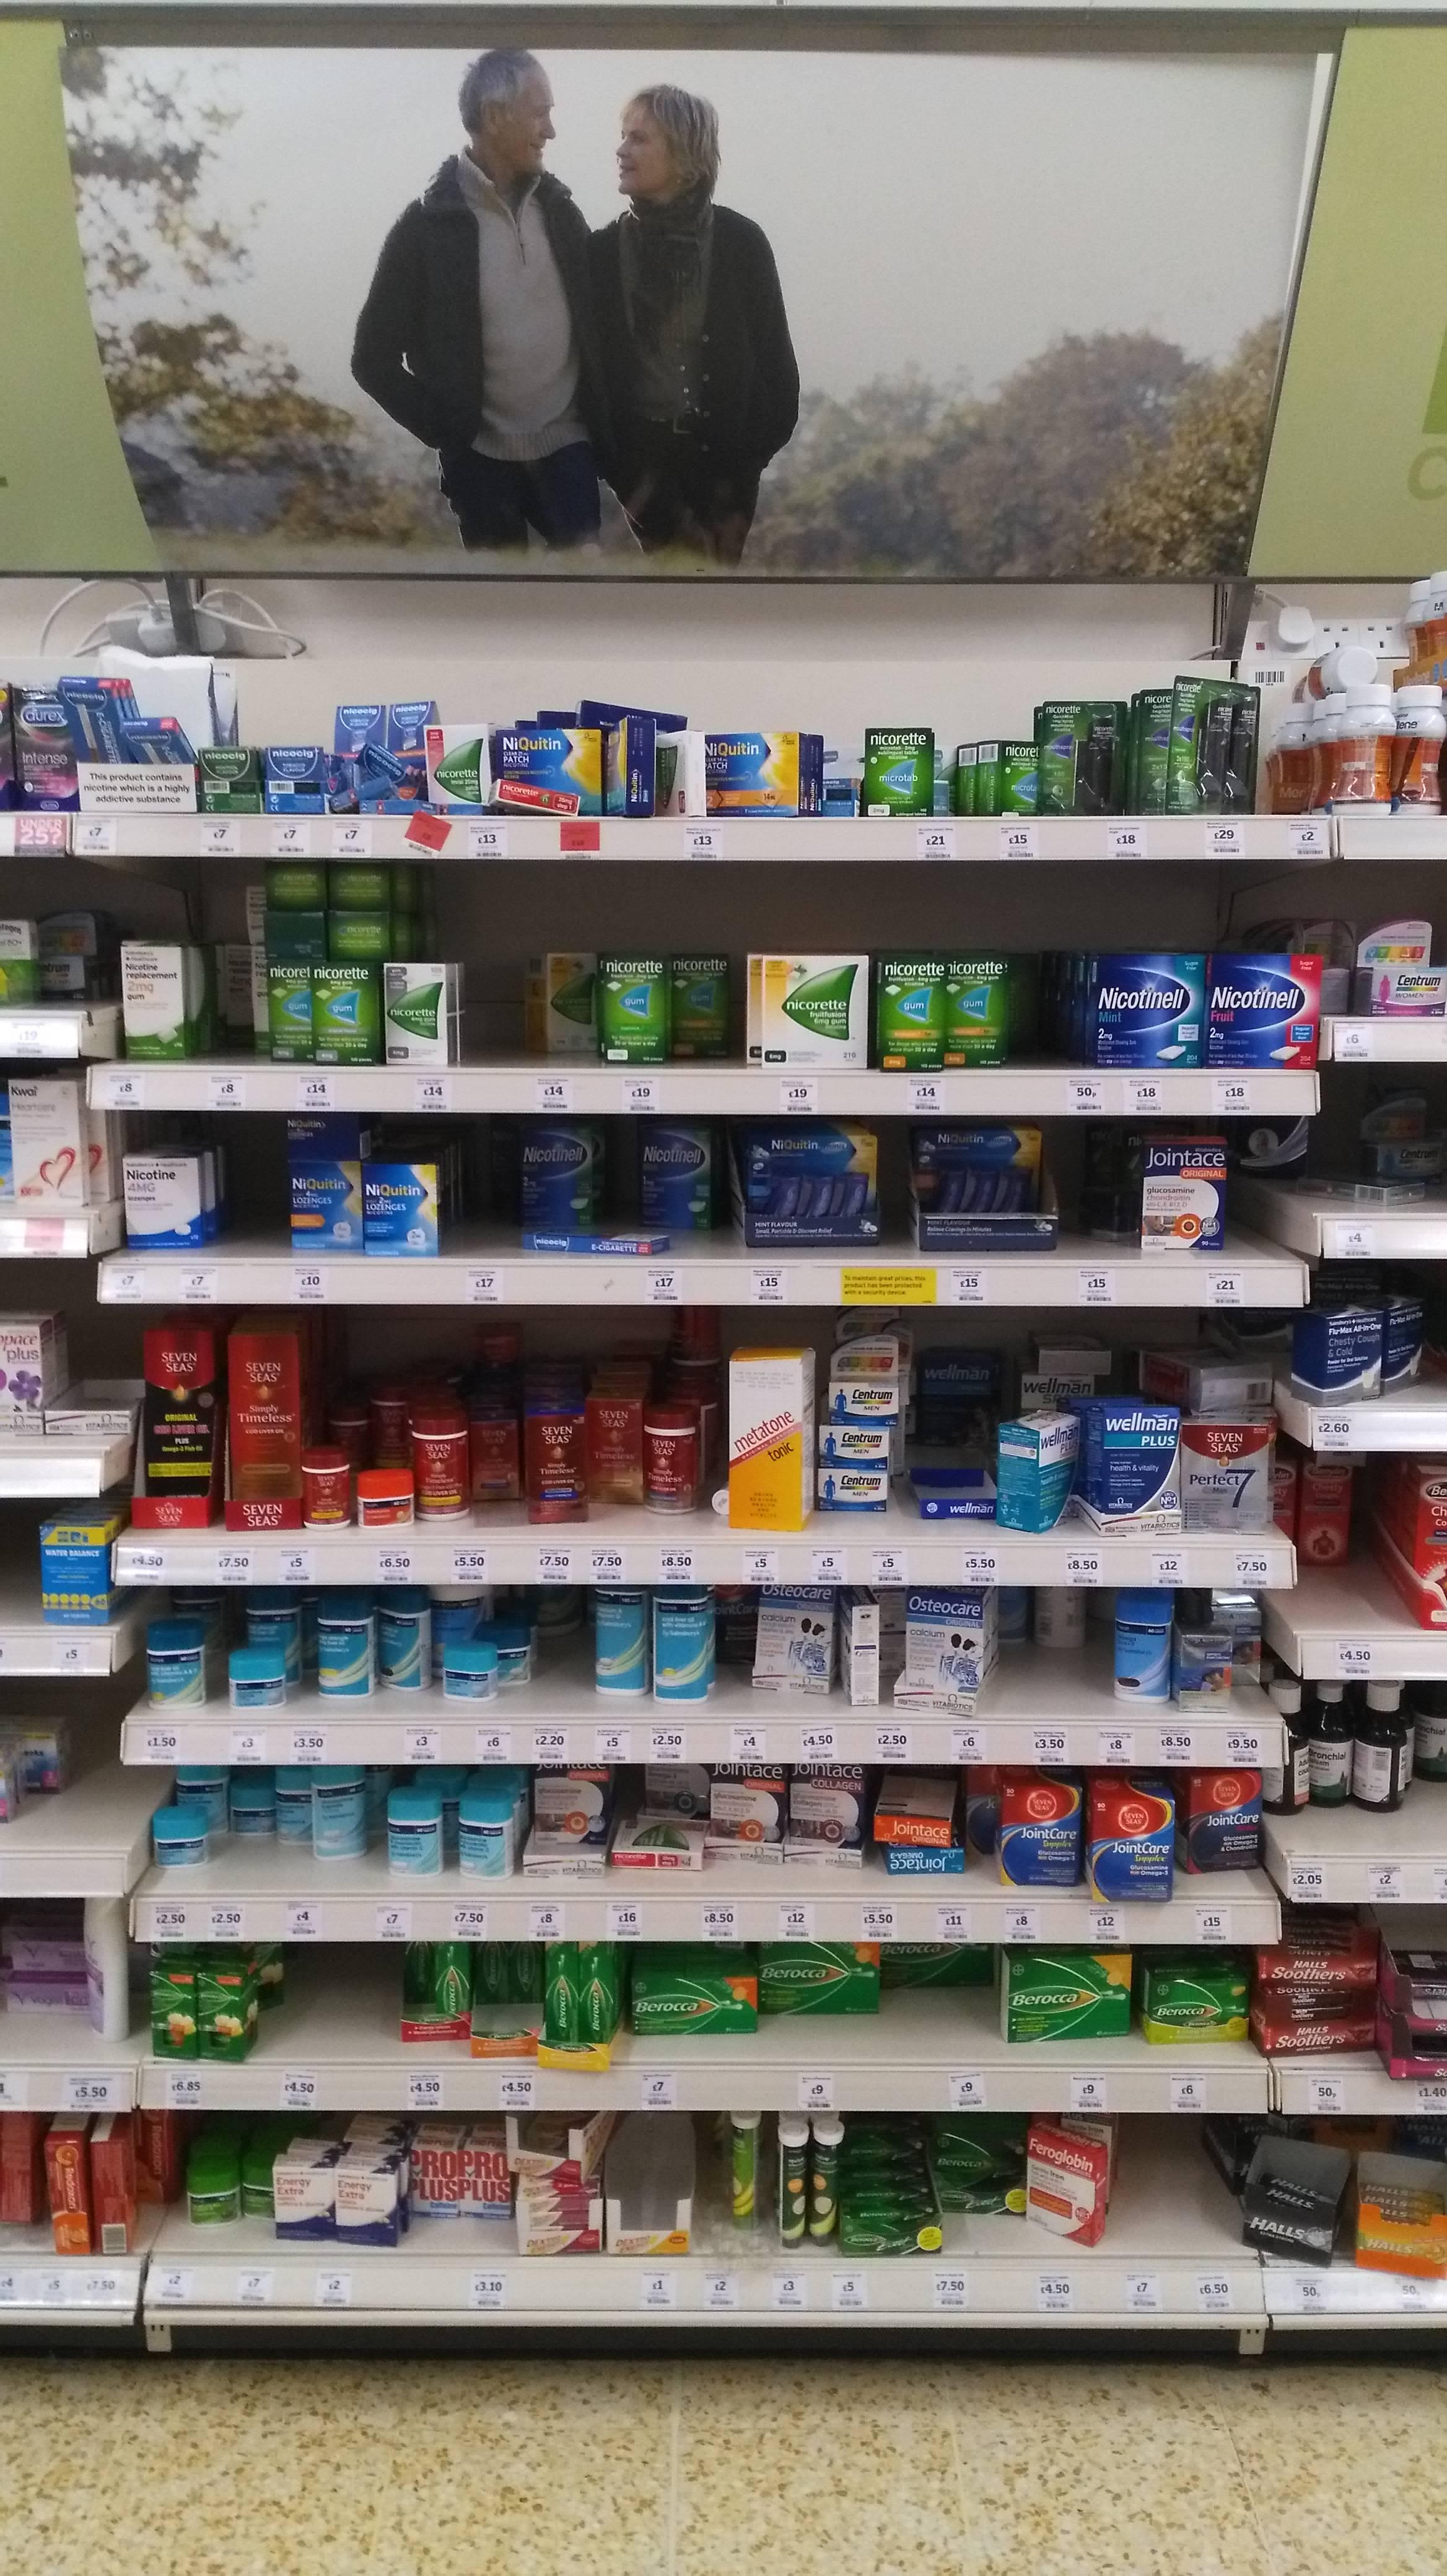misalignment: (1164, 674, 1267, 810), (1247, 2132, 1344, 2266), (982, 1407, 1083, 1532), (1019, 2127, 1111, 2254), (1357, 2146, 1447, 2275), (867, 1766, 968, 1881), (65, 679, 188, 766), (511, 1205, 674, 1265), (76, 1898, 136, 2059), (517, 954, 601, 1063), (1300, 1306, 1387, 1403), (950, 731, 1042, 816), (336, 743, 432, 817), (603, 717, 662, 814), (614, 1812, 708, 1872), (837, 1594, 883, 1713), (665, 724, 711, 821), (494, 770, 580, 819), (1307, 640, 1380, 694)
